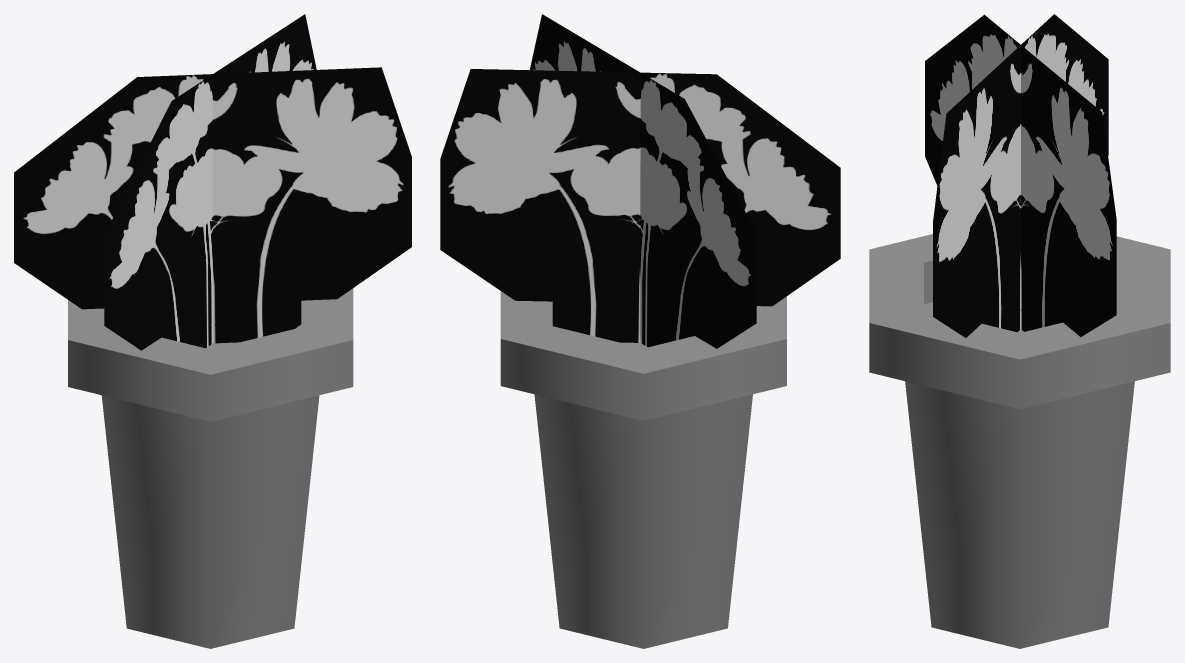
The model's file is plantenbak 1.FBX.
The picture shows the model from 3 angles, left to right: view 1: azimuth 30°, elevation 25°; view 2: azimuth 150°, elevation 25°; view 3: azimuth 270°, elevation 25°; orthographic projection. The views are drawn at different scales.
Visible parts, largest first — view 1: Plane003, Cylinder001, Plane004; view 2: Cylinder001, Plane004, Plane003; view 3: Cylinder001, Plane004, Plane003.
Part boxes in pixels (x1,y1,x2,y2): Plane003: [14, 67, 411, 343]; Cylinder001: [68, 288, 353, 648]; Plane004: [104, 14, 316, 350]; Cylinder001: [500, 291, 786, 648]; Plane004: [440, 69, 840, 342]; Plane003: [530, 14, 756, 348]; Cylinder001: [869, 234, 1170, 648]; Plane004: [925, 14, 1116, 336]; Plane003: [933, 14, 1108, 337].
Bounding box in the file's own units: 36.51 × 59.12 × 28.7.
